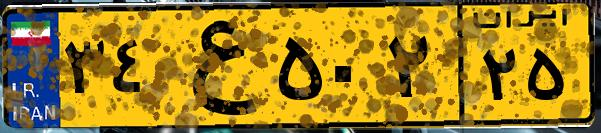0: (330, 28, 385, 110)
2: (385, 28, 445, 110), (475, 38, 525, 113)
3: (57, 26, 110, 100)
4: (110, 28, 158, 98)
5: (270, 28, 330, 110), (525, 38, 570, 115)
ع: (158, 12, 270, 120)
